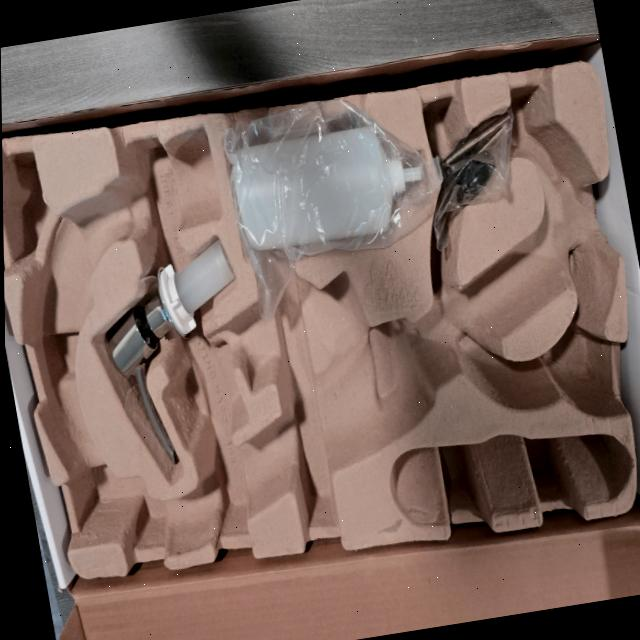1m: (26, 131, 612, 552)
2: (105, 237, 237, 463)
3: (228, 125, 425, 249)
4m: (392, 432, 634, 527)
5m: (552, 332, 601, 408)
6m: (513, 89, 581, 190)
7: (434, 104, 513, 252)
